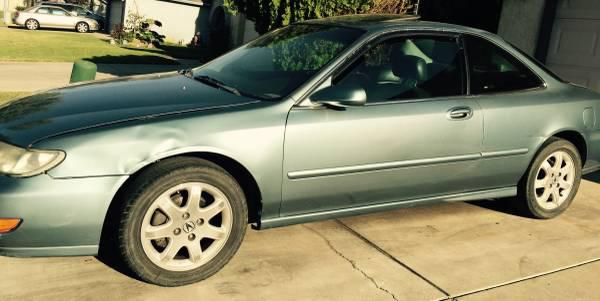acura: (1, 12, 597, 289)
